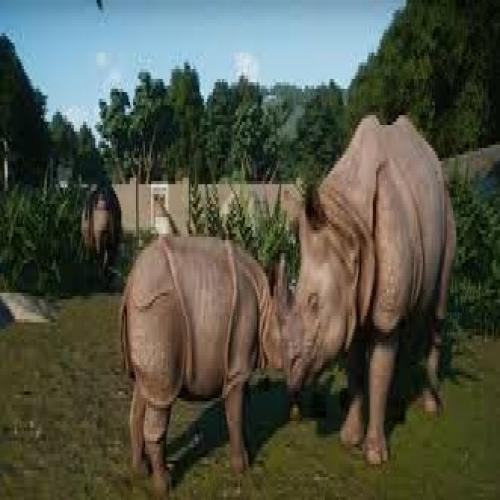rhino-endangered: (279, 110, 456, 467), (119, 229, 290, 500)
